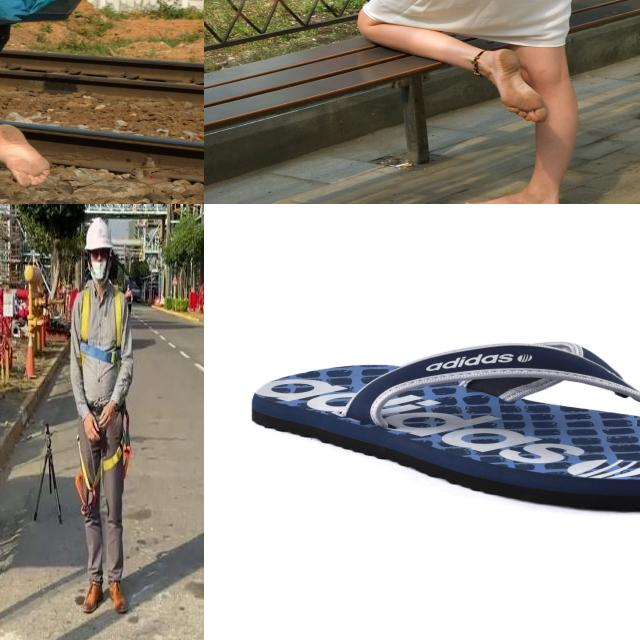Barefoots: (489, 49, 548, 123), (0, 124, 50, 187), (463, 192, 562, 204)
Harness: (75, 407, 131, 516), (81, 287, 124, 364)
Sandals: (249, 339, 640, 515)
